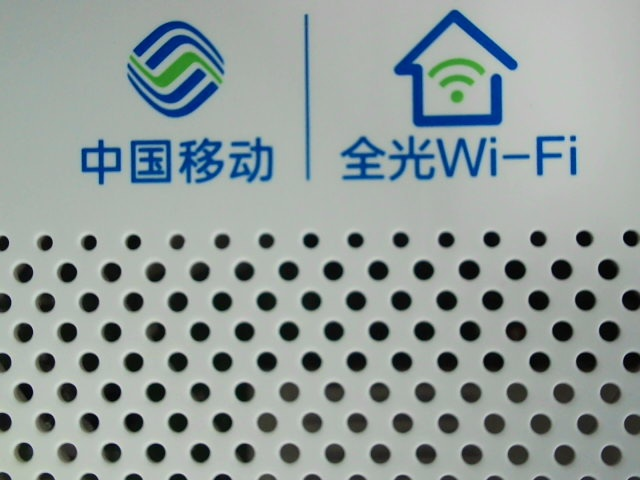BJ_QuanGuangMobile: (64, 7, 582, 192)
